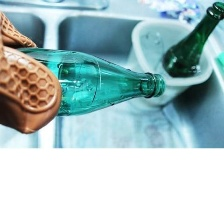bottle: (2, 44, 166, 118), (151, 0, 223, 84)
